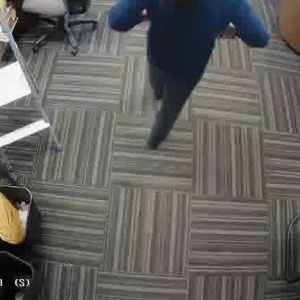person: (120, 0, 254, 142)
